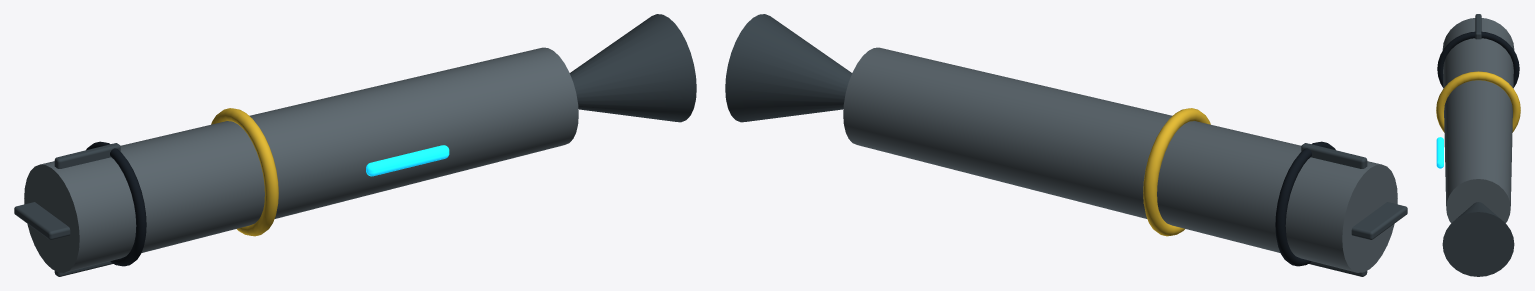
Rendered from shot.glb.
3 renders of one model, left to right at view 1: azimuth 30°, elevation 25°; view 2: azimuth 150°, elevation 25°; view 3: azimuth 270°, elevation 25°, orthographic. The views are drawn at different scales.
Size of the model in its own units: 6.22 by 1.11 by 1.11.
